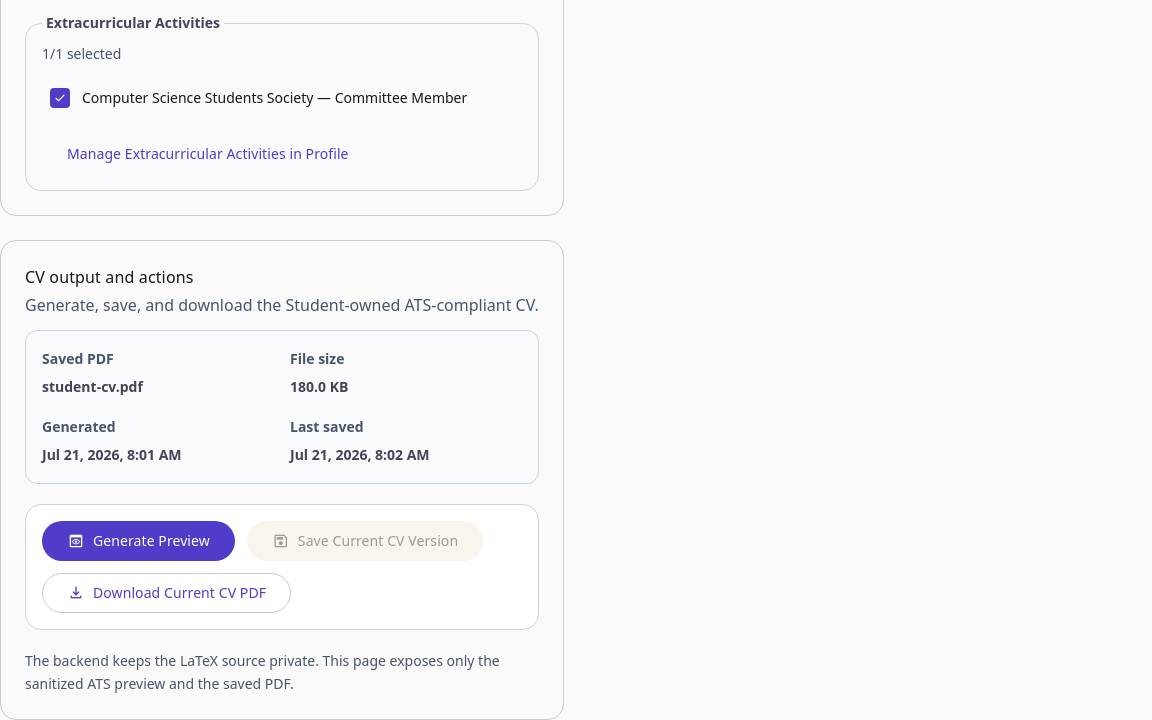
Scenario: CvBuilderPage › downloads only the active saved PDF
(page scrolled)
Click the button "Download Current CV PDF" at coordinates (167, 593), box [42,573,291,613]
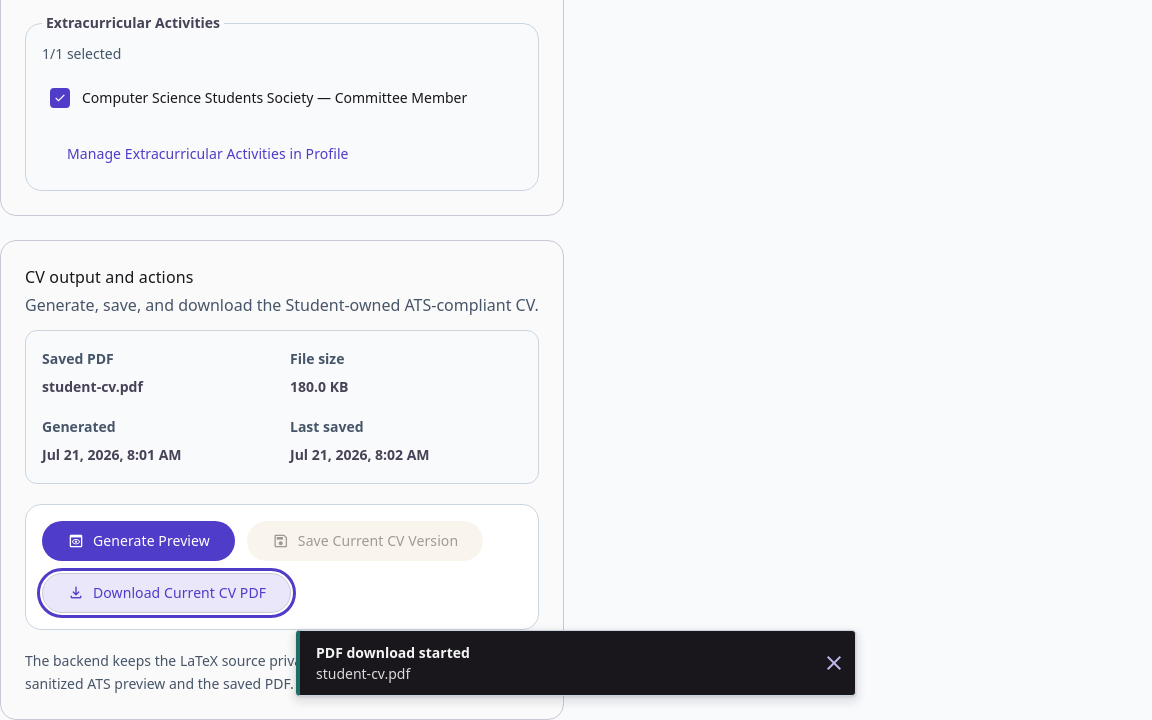
Check: the text "PDF download started" is shown, box [316,643,470,662]
